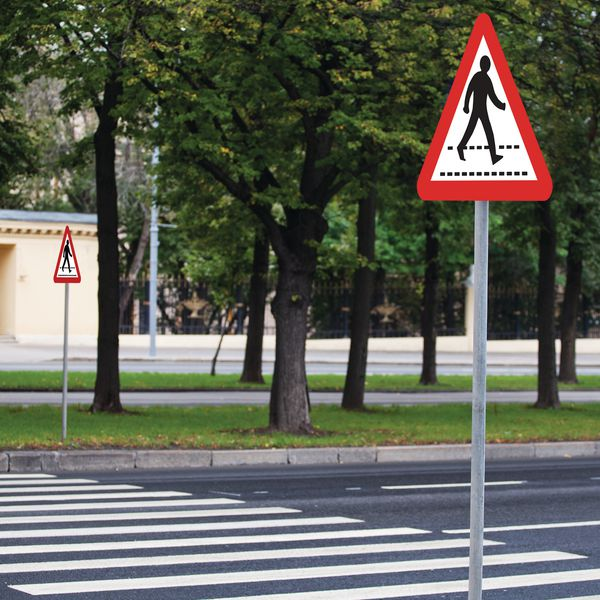CrossSign: (414, 14, 554, 204), (49, 227, 81, 283)
Crosswalk: (1, 466, 456, 596)
Tree: (118, 1, 399, 427)
